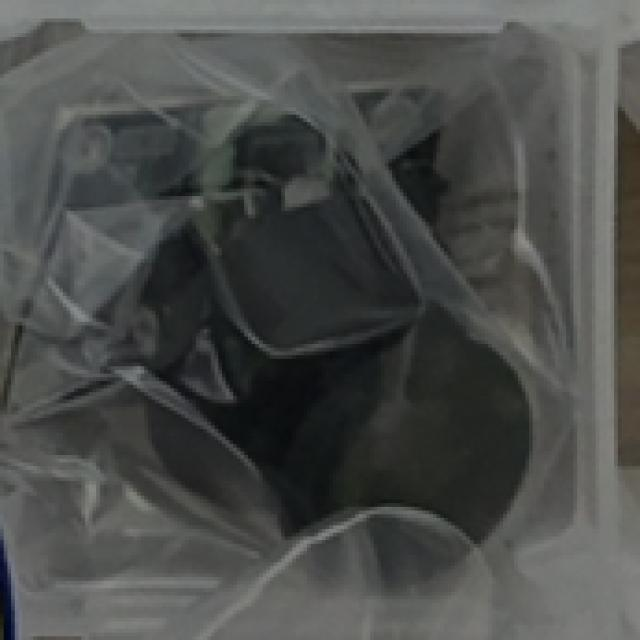XY Joystick: (7, 103, 530, 592)
